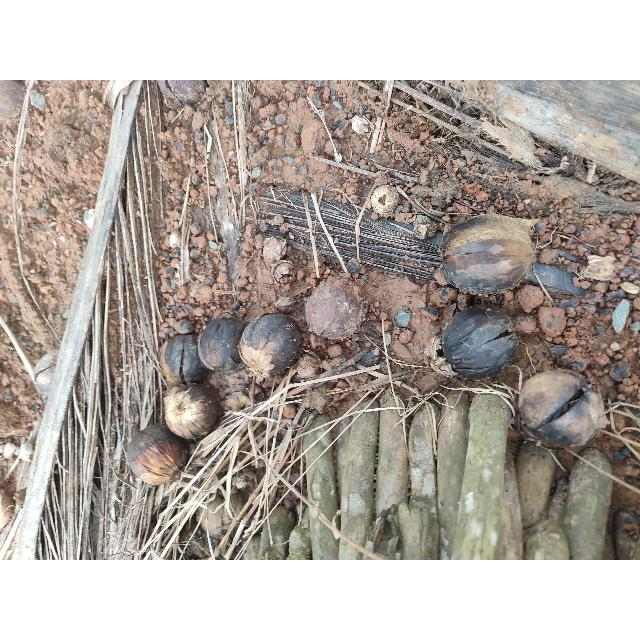damaged: (440, 212, 538, 296), (502, 374, 602, 444), (441, 308, 519, 376), (238, 313, 302, 379), (126, 424, 190, 486), (307, 276, 367, 338), (163, 384, 219, 438), (198, 317, 248, 377), (160, 332, 204, 386), (370, 184, 400, 213), (225, 391, 251, 413)
